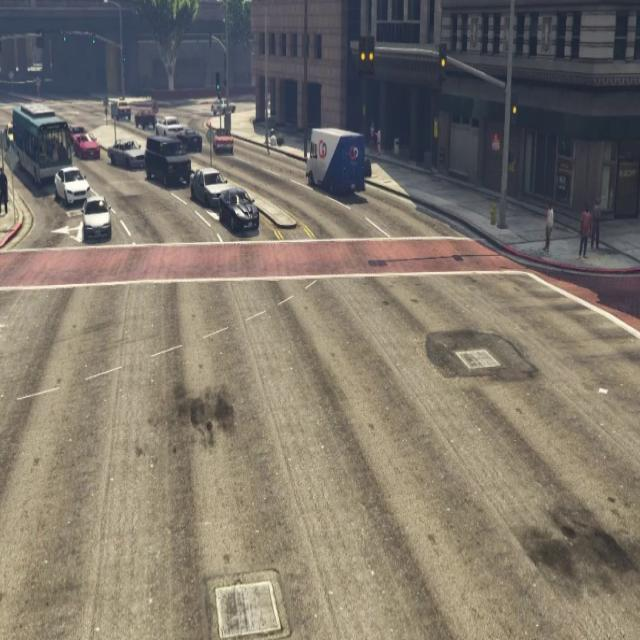Yellow-Signal: (353, 27, 381, 84), (436, 38, 451, 88), (508, 91, 522, 140)
